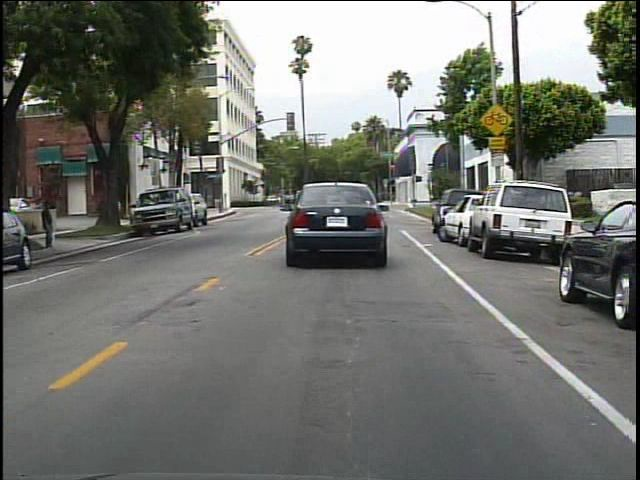person: (43, 198, 60, 250)
